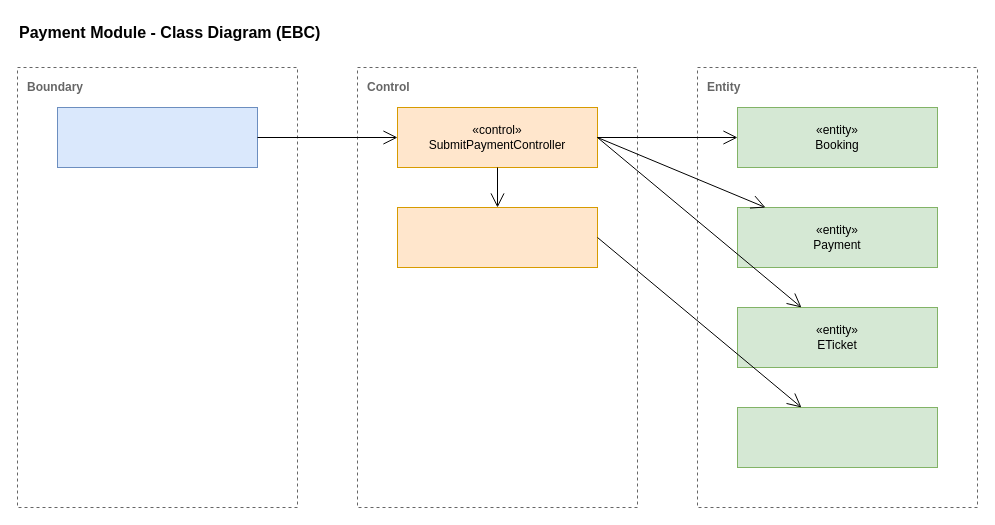
Some shapes in this 995 by 525 pixel diagram are drawn without their labels. The shapes that lost their labels are listed below. From the top down, each one's centre as x and y in pixels, then its label:
point 157,137: «boundary» PaymentView
point 497,237: «control» PaymentGatewayAdapter
point 837,437: «entity» Refund
